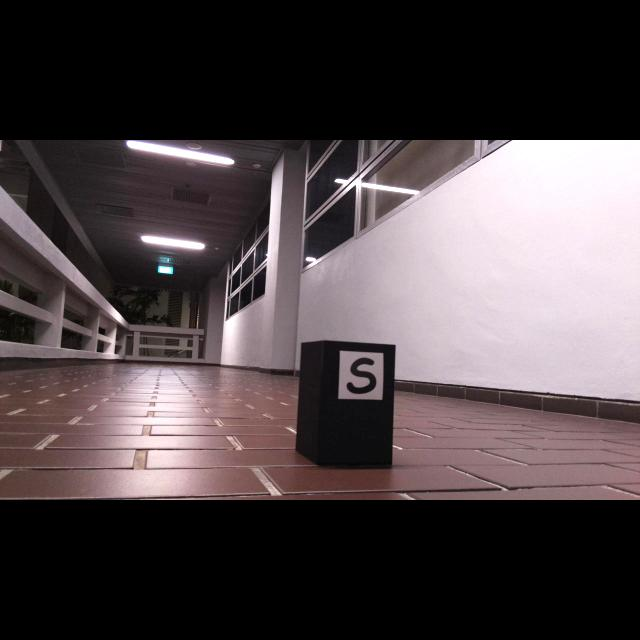S: (346, 358, 376, 394)
